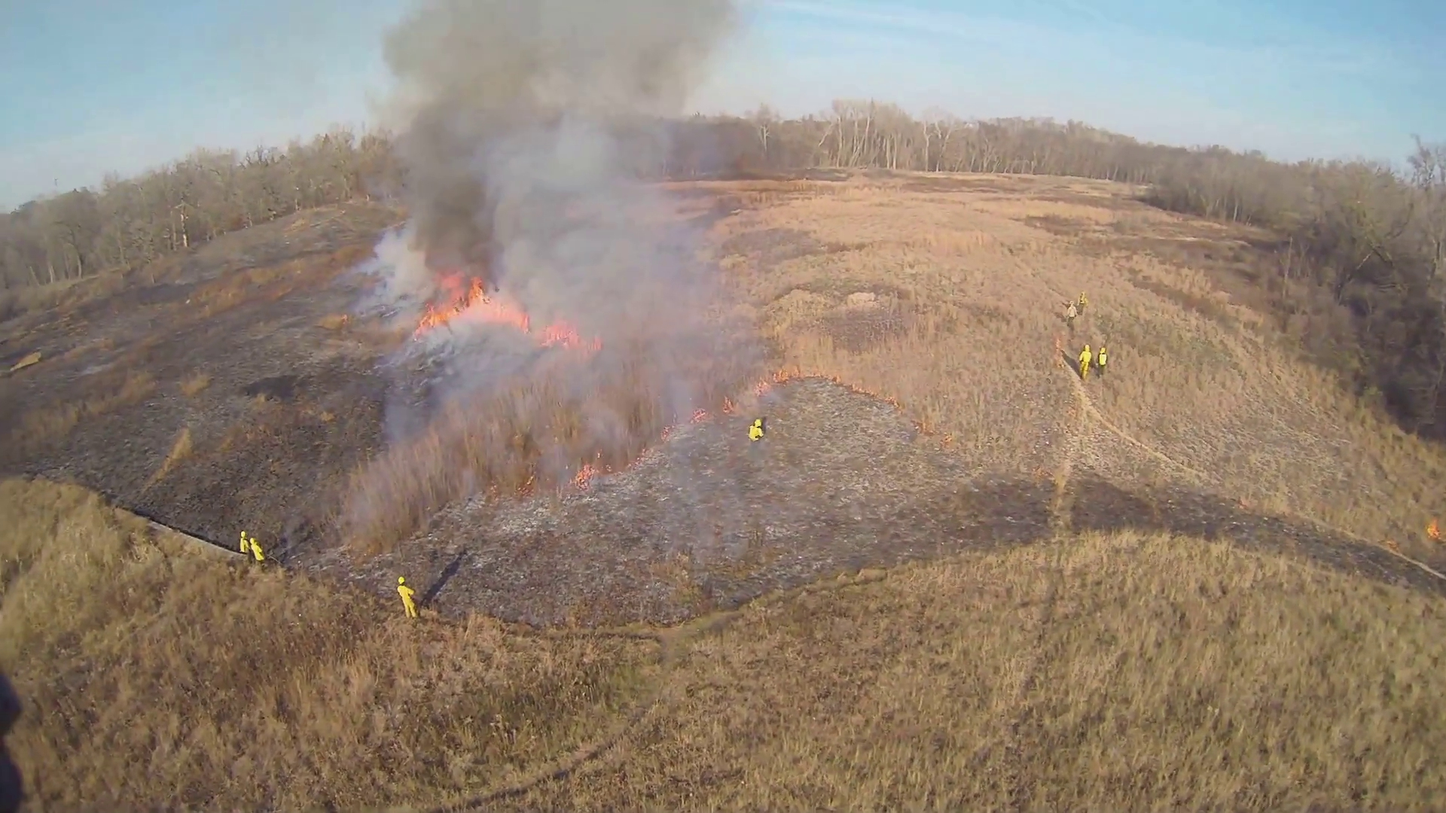forest_fire: (413, 278, 602, 355), (573, 451, 620, 487), (685, 397, 740, 422), (753, 370, 802, 398)
